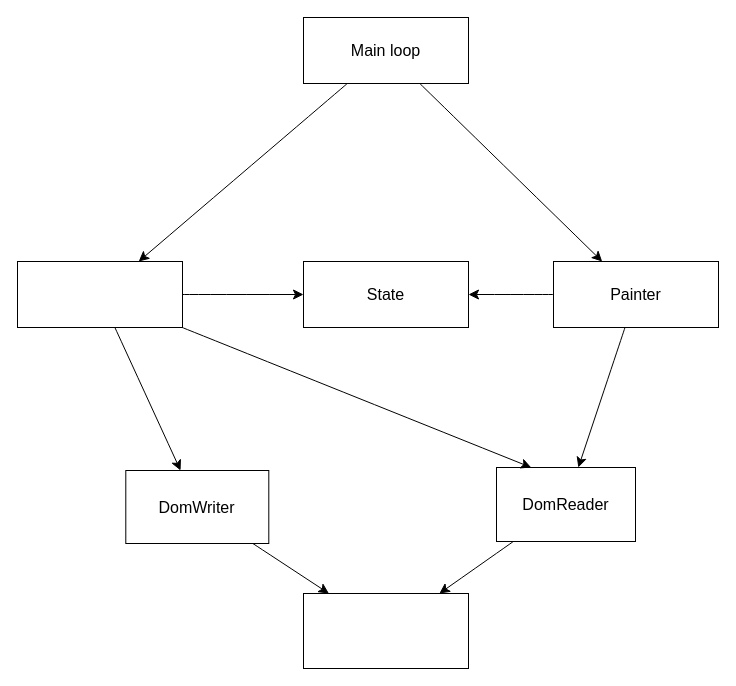
This 736x686 diagram has some shape labels left out. The centre of each missing label's shape, as x and y in pixels:
DOM: the point at 385,630
EventsHandler: the point at 99,294
